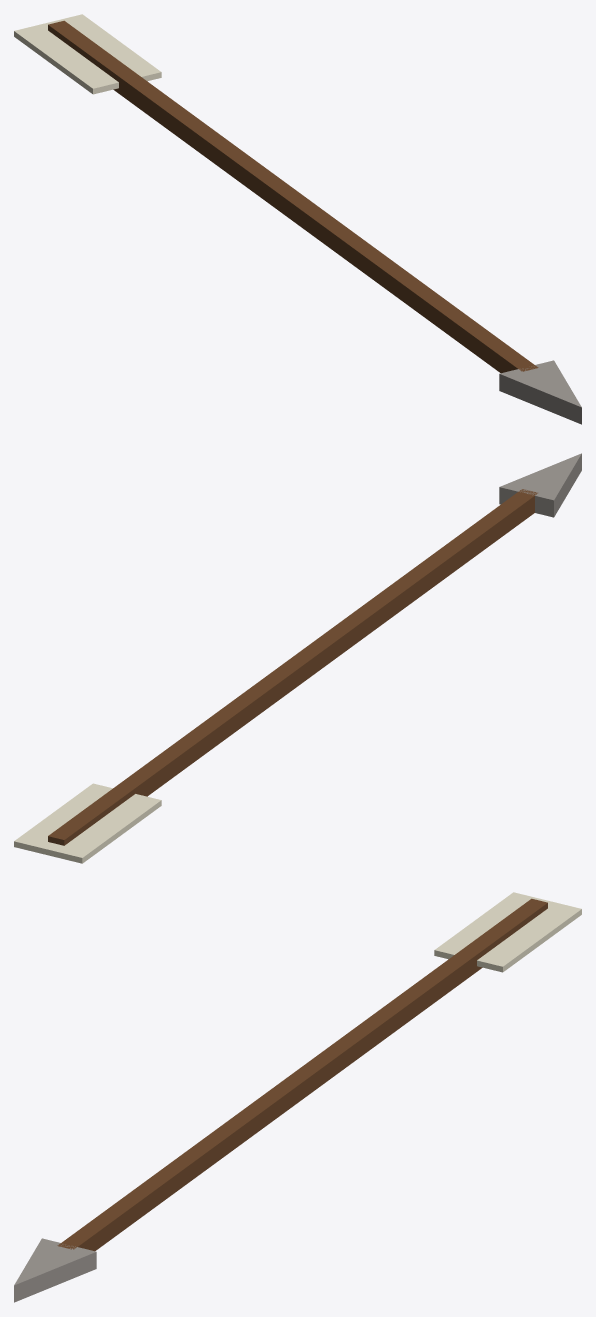
The model's file is fleche.glb.
3 renders of one model, top to bottom at view 1: azimuth 30°, elevation 25°; view 2: azimuth 150°, elevation 25°; view 3: azimuth 330°, elevation 25°, orthographic.
Parts seen in each view (by area): view 1: Hampe, Empennage, Pointe; view 2: Hampe, Empennage, Pointe; view 3: Hampe, Empennage, Pointe.
Boxes of the visible parts, left/top/right/bottom form: Hampe: left=48, top=20, right=538, bottom=373; Empennage: left=14, top=14, right=161, bottom=94; Pointe: left=499, top=360, right=581, bottom=424; Hampe: left=48, top=489, right=537, bottom=845; Empennage: left=14, top=783, right=161, bottom=863; Pointe: left=499, top=453, right=581, bottom=517; Hampe: left=57, top=898, right=547, bottom=1251; Empennage: left=434, top=892, right=581, bottom=972; Pointe: left=14, top=1238, right=96, bottom=1302.
Size of the model in its own units: 0.05 by 0.012 by 0.675.
